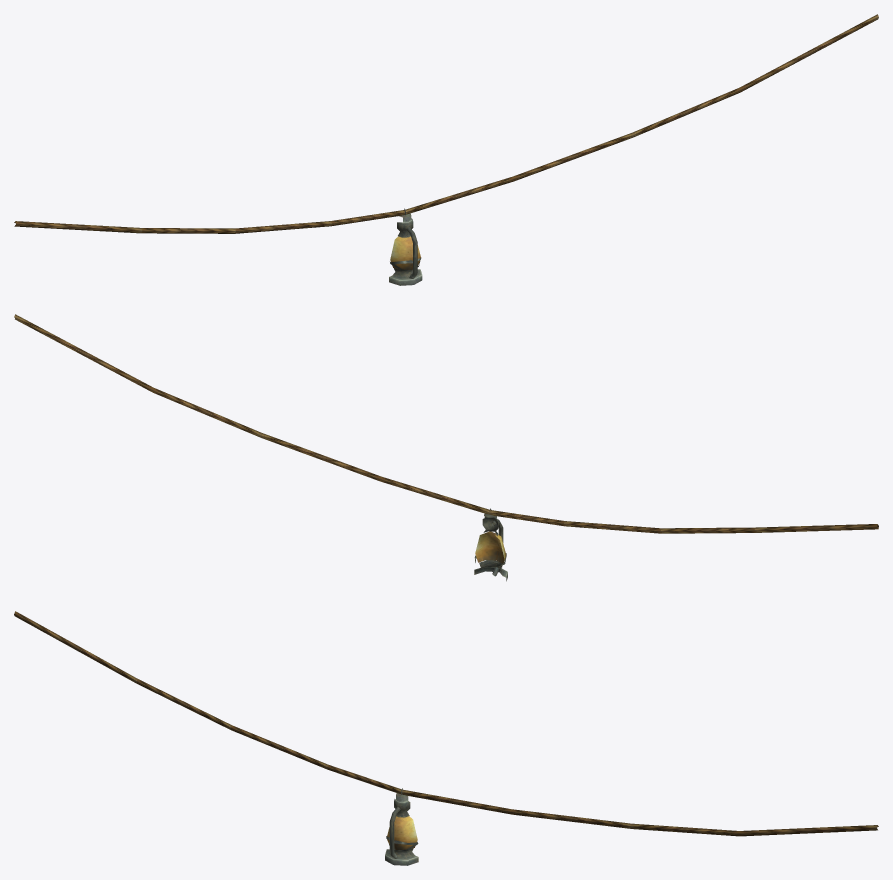
Rendered from S_Build_West010_1.FBX.
3 renders of one model, top to bottom at view 1: azimuth 30°, elevation 25°; view 2: azimuth 150°, elevation 25°; view 3: azimuth 330°, elevation 25°, orthographic.
Visible parts, largest first — view 1: S_Build_West010_1; view 2: S_Build_West010_1; view 3: S_Build_West010_1.
Part boxes in pixels (x1=…): S_Build_West010_1: x1=14, y1=14, x2=878, y2=285; S_Build_West010_1: x1=14, y1=314, x2=878, y2=581; S_Build_West010_1: x1=14, y1=611, x2=878, y2=865.
Bounding box in the file's own units: 930 × 29.29 × 156.
